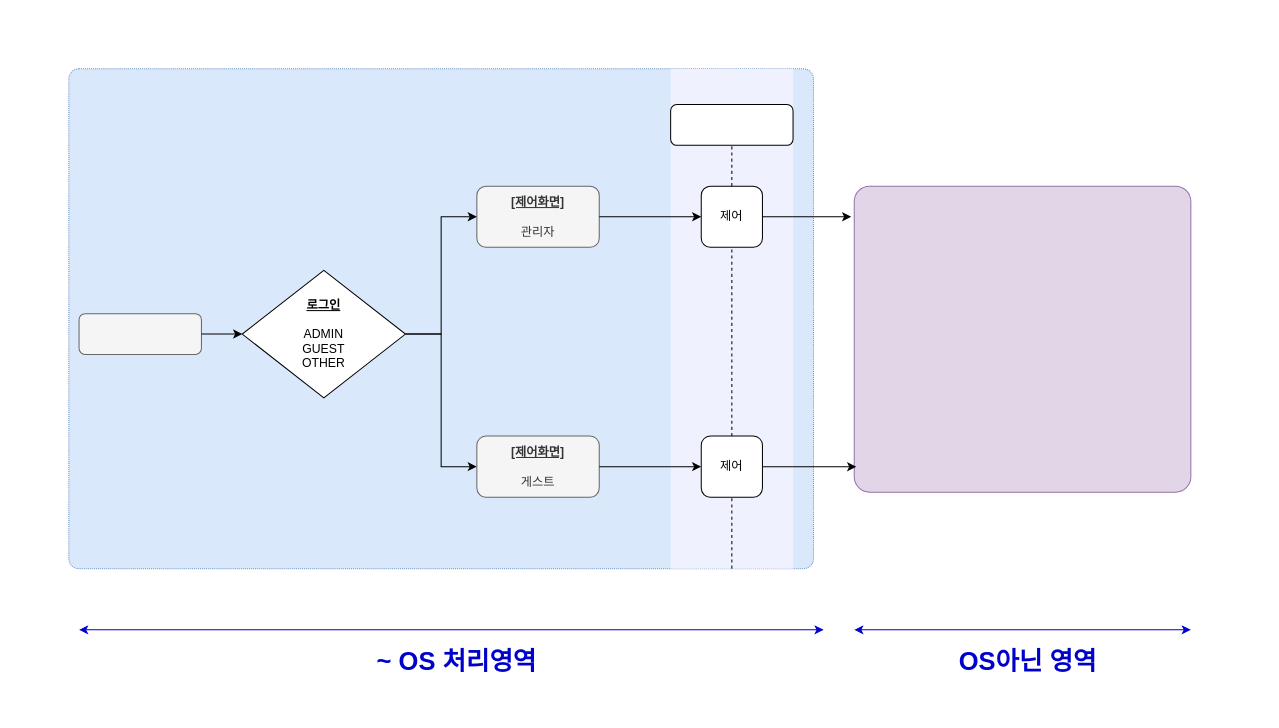
This 1279x728 diagram has some shape labels left out. Here are the shapes that lost their labels. From the top down, the box of each, then its label:
(670, 104, 793, 145): 시리얼 포트제어
(78, 313, 201, 354): 시리얼 초기화
(853, 185, 1191, 492): 아두이노
